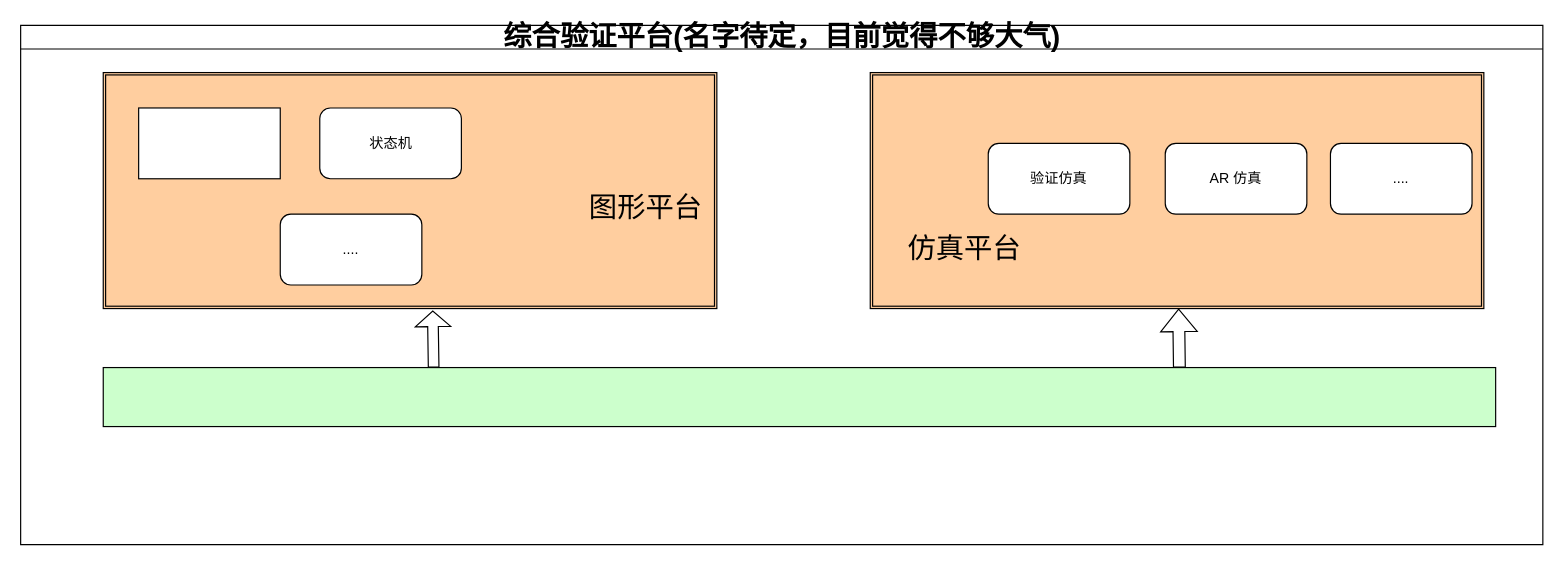
Image size: 1563x565. Some labels were removed from this diagram. The shapes that lost their labels are listed below. From the top down, each one's box as (x1, y1, x2, y2) in pixels, then its label:
(137, 107, 280, 179): UI 编辑
(102, 366, 1496, 427): 软总线
